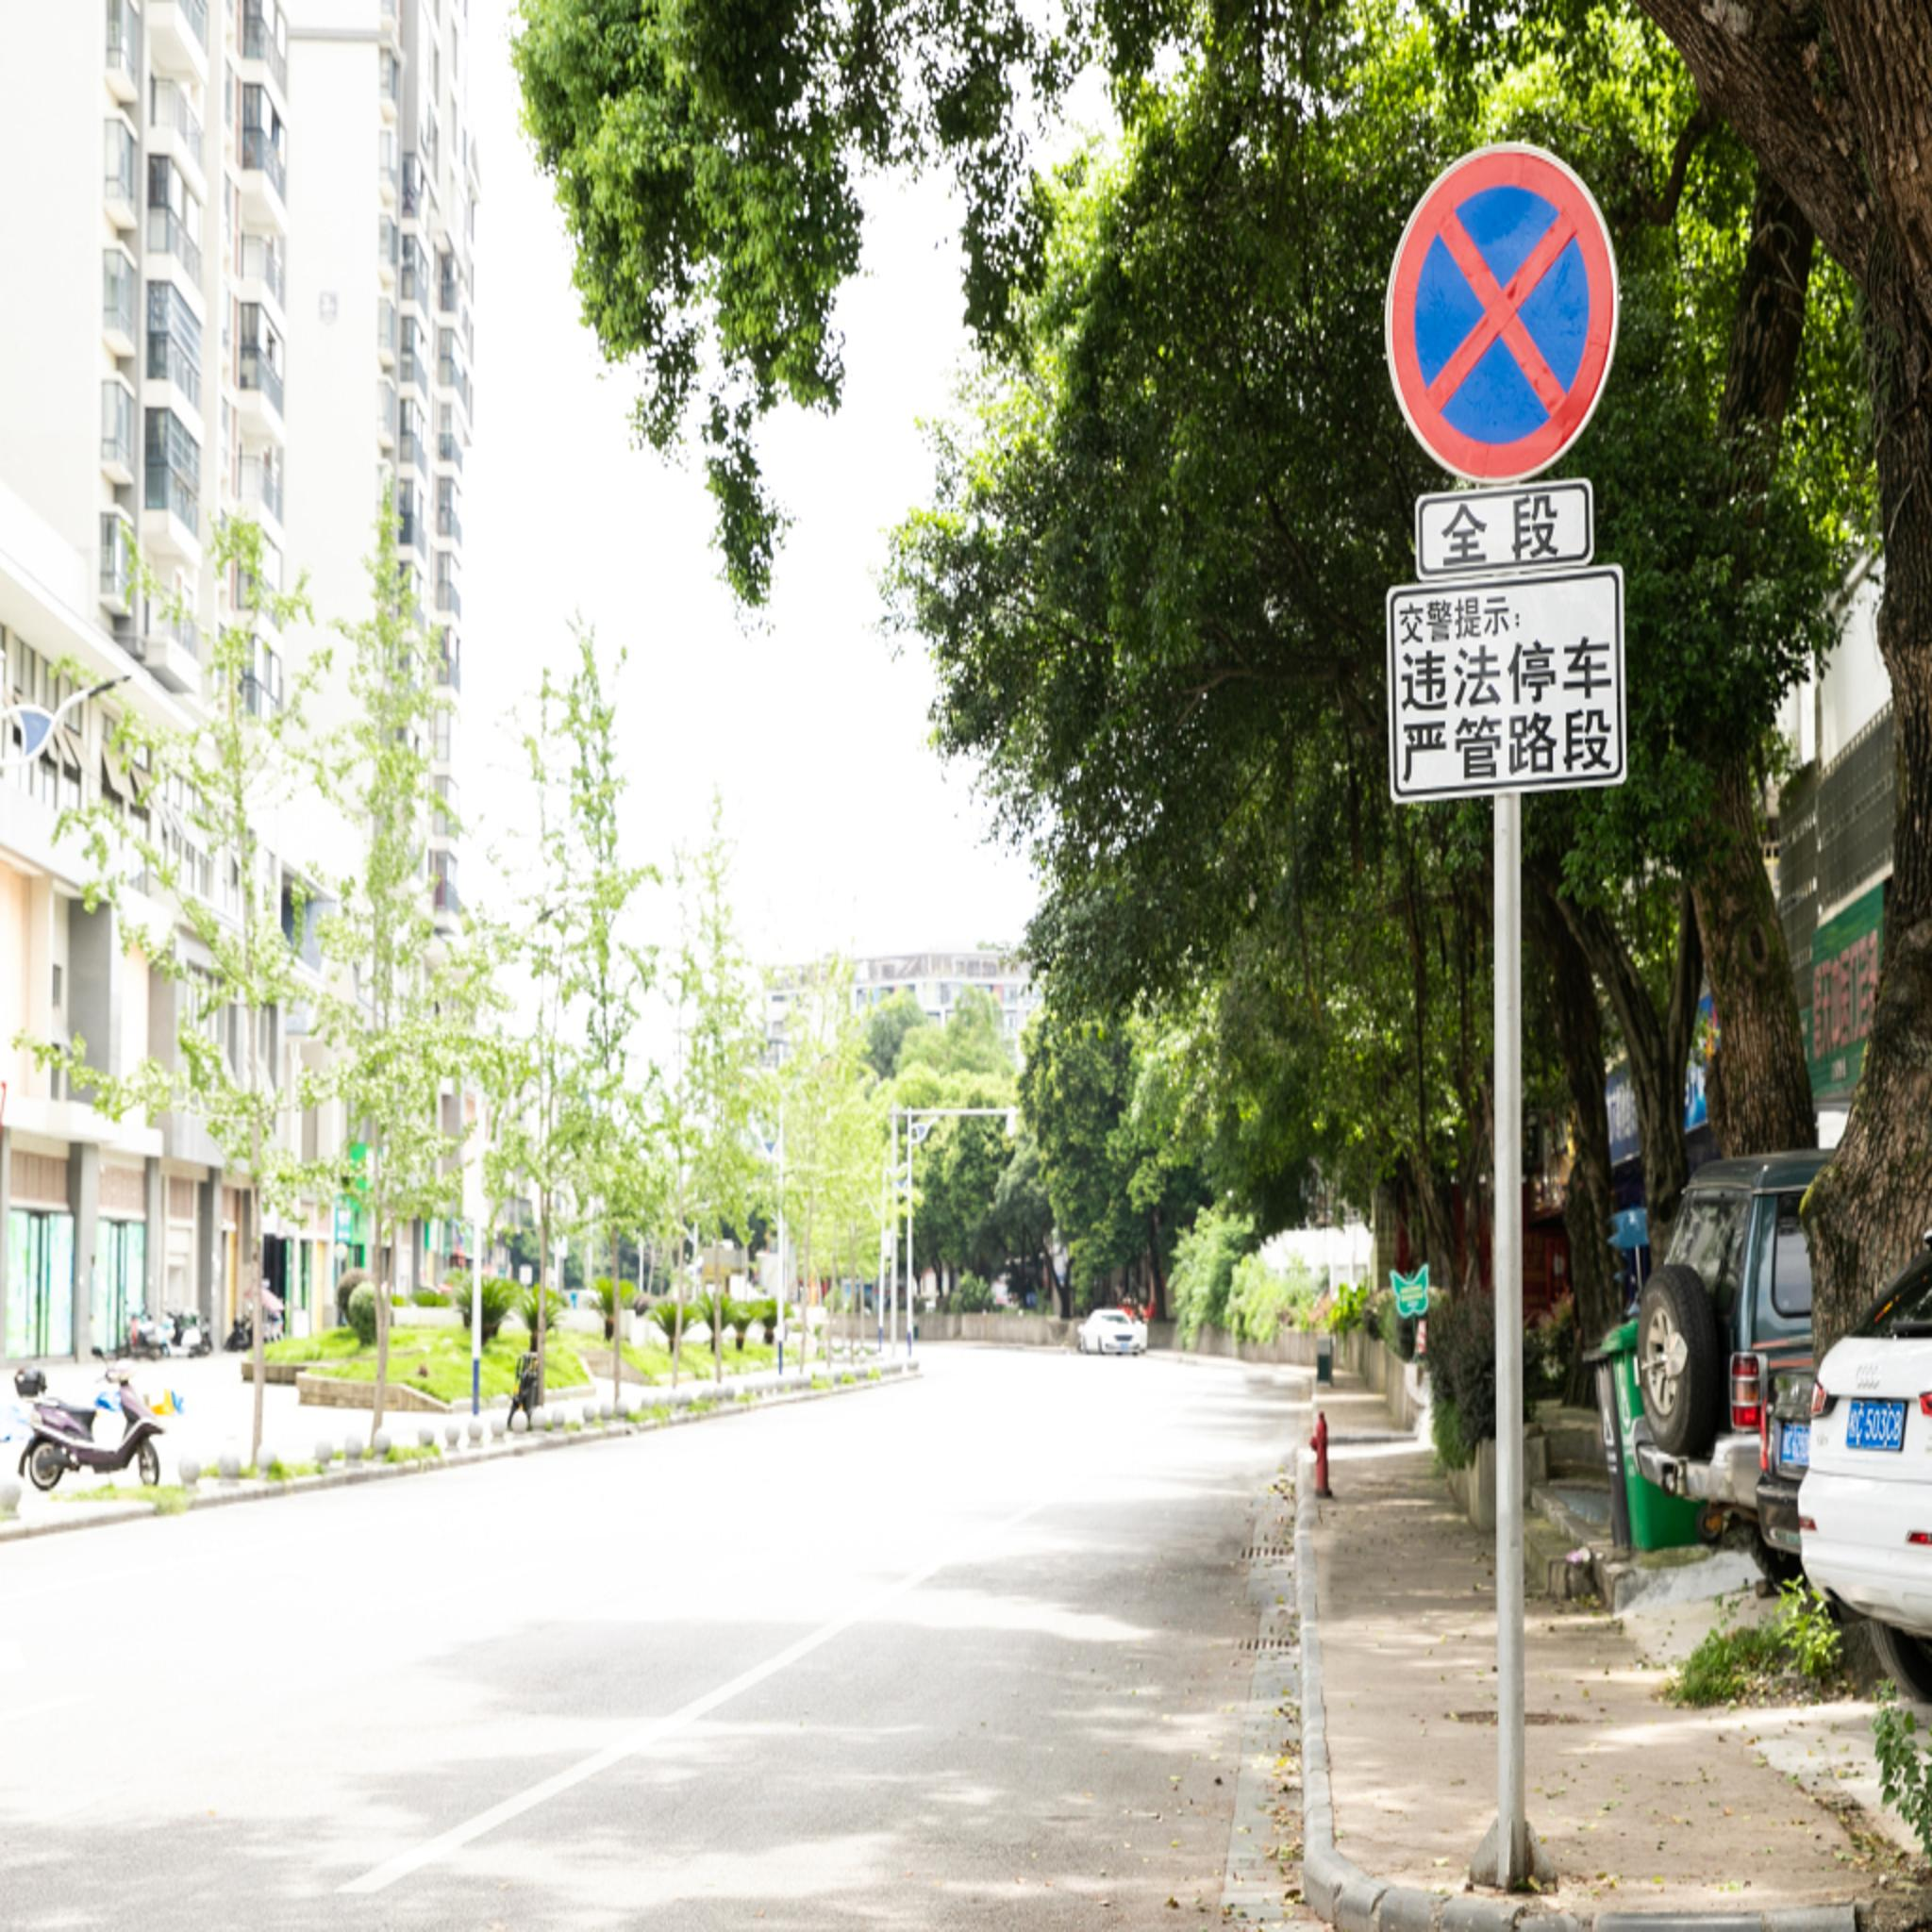pn: (1384, 143, 1617, 478)
